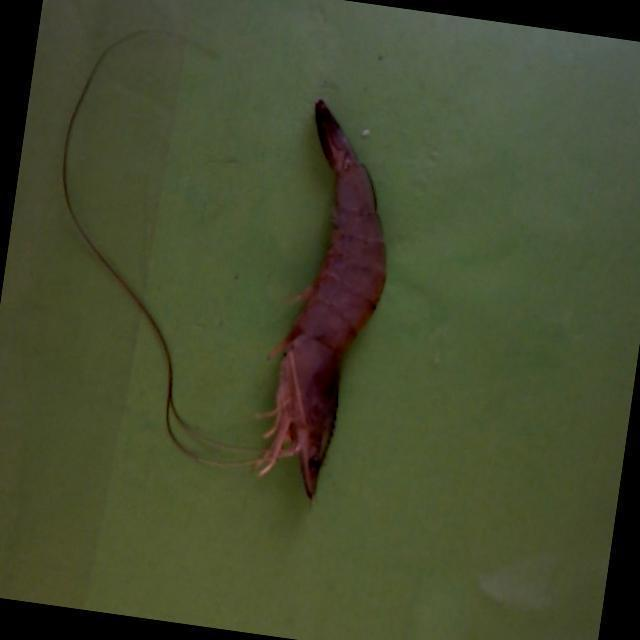shrimp: (282, 100, 384, 499)
